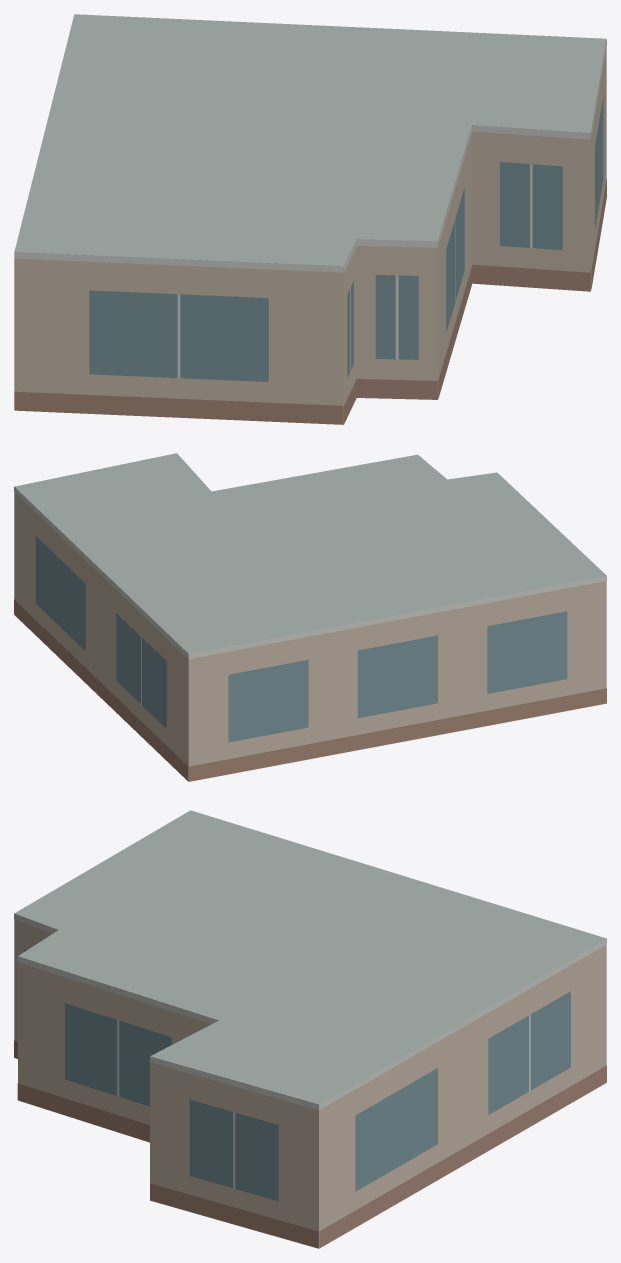
File: survey-upis-32635977.glb
The picture shows the model from 3 angles, top to bottom: view 1: azimuth 30°, elevation 25°; view 2: azimuth 150°, elevation 25°; view 3: azimuth 270°, elevation 25°; orthographic projection. The views are drawn at different scales.
Parts seen in each view (by area): view 1: survey-upis-32635977.tmp; view 2: survey-upis-32635977.tmp; view 3: survey-upis-32635977.tmp.
Boxes of the visible parts, bbox=[...] form: survey-upis-32635977.tmp: bbox=[14, 14, 606, 424]; survey-upis-32635977.tmp: bbox=[14, 453, 606, 781]; survey-upis-32635977.tmp: bbox=[14, 810, 606, 1248].
Bounding box in the file's own units: 13.36 × 3.05 × 11.37.
